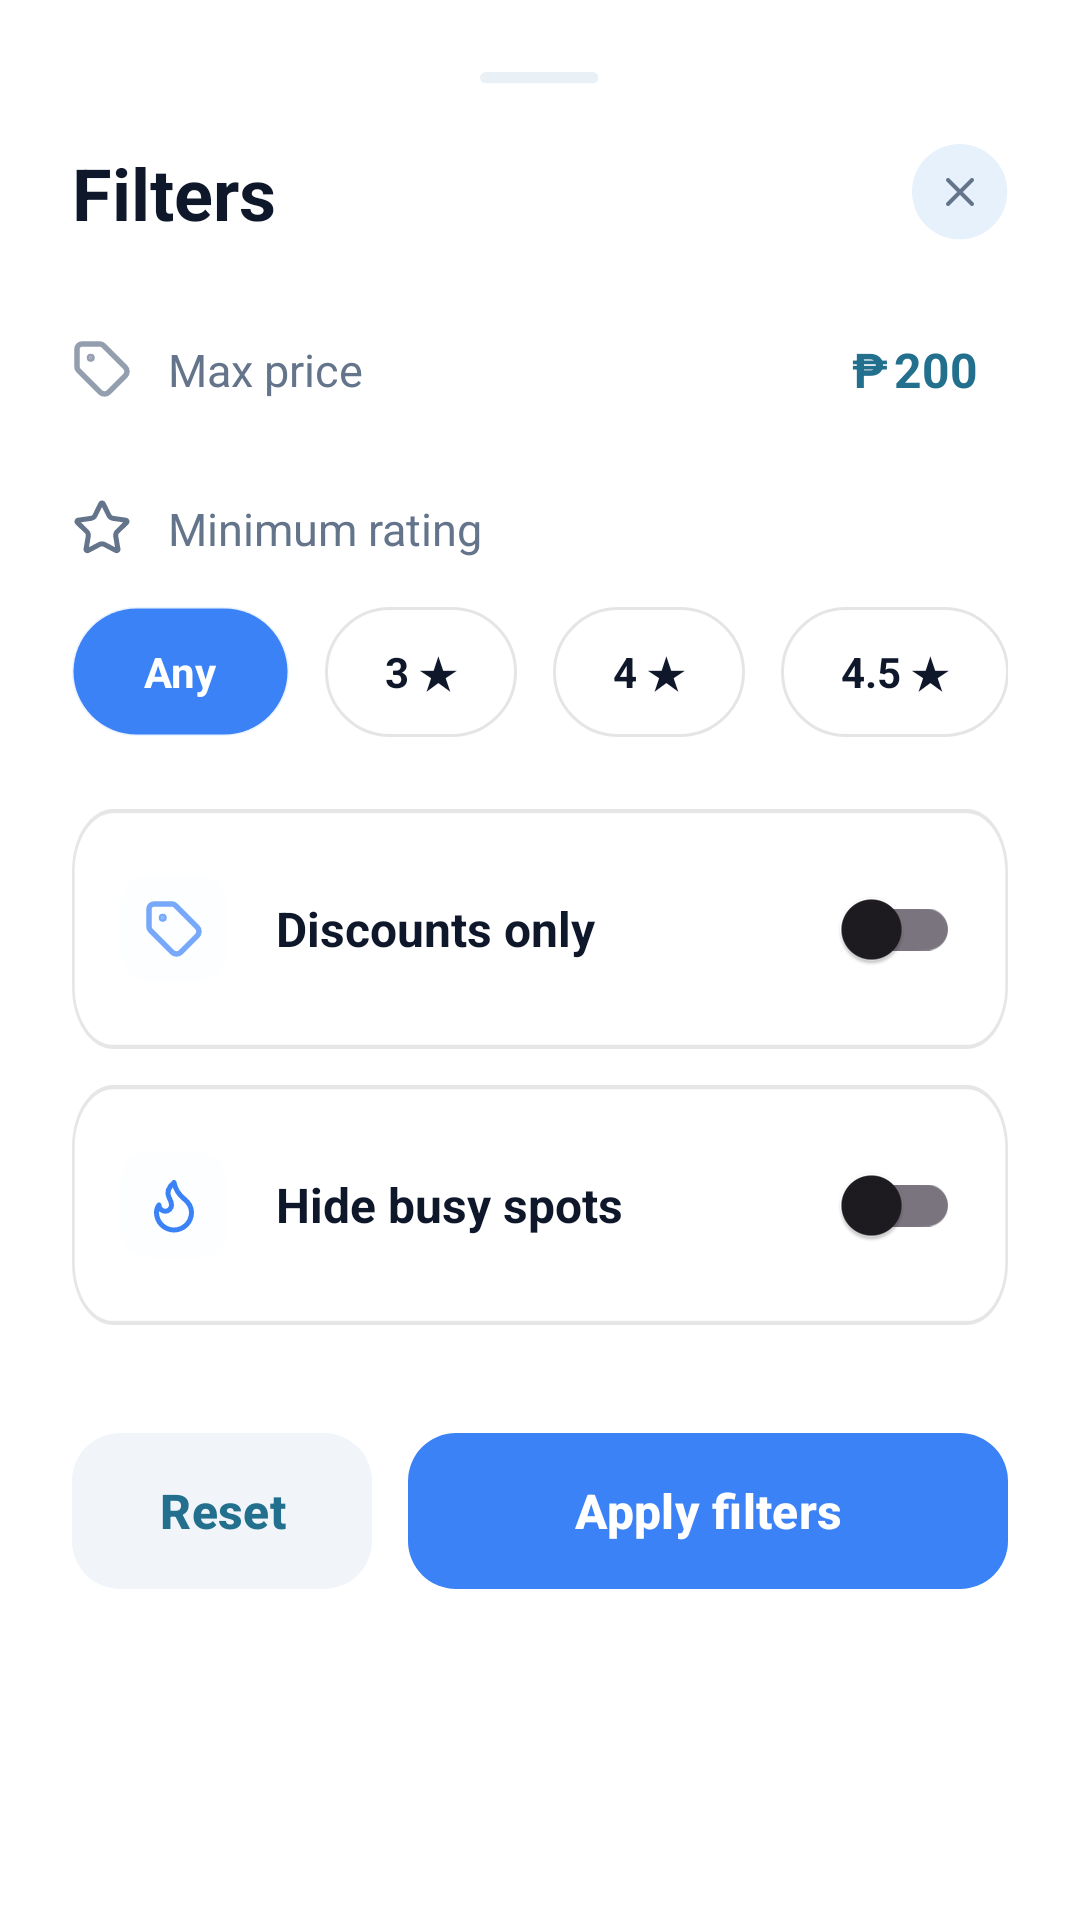

Icons on this 1080px×1920px Android screen, each with the point to tap as (x=x, y=y):
close: (x=959, y=191)
flame: (x=174, y=1206)
star: (x=102, y=527)
tag: (x=102, y=369), (x=174, y=929)
